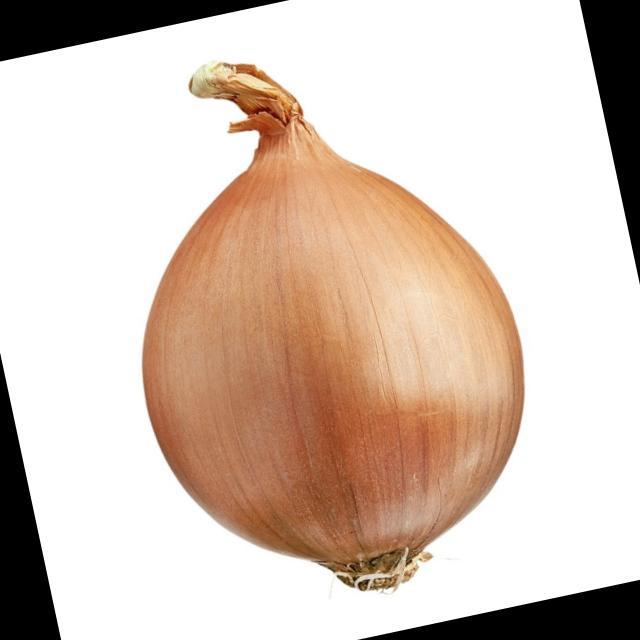ONIONS: (86, 25, 566, 612)
